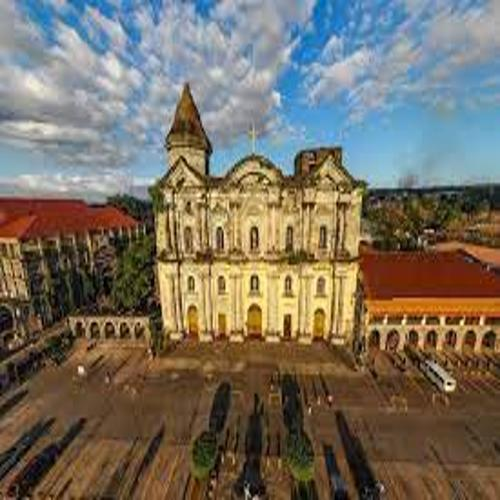Taal Basilica Church: (143, 75, 368, 357)
